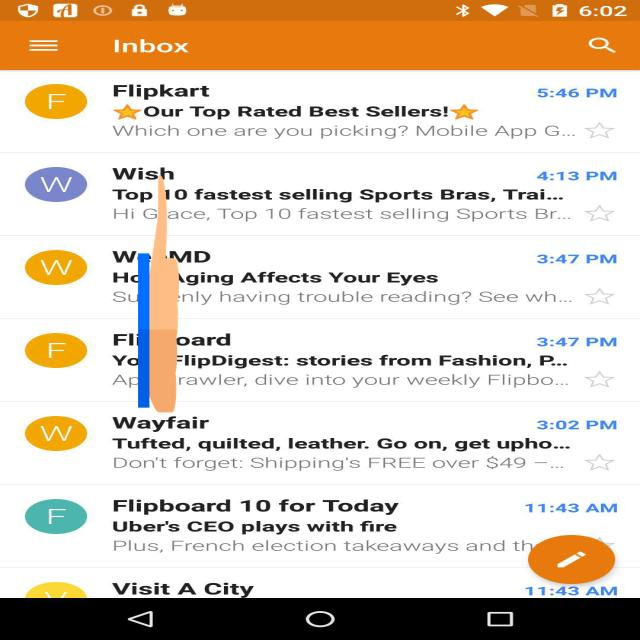privacy zuckering: (138, 169, 179, 418)
